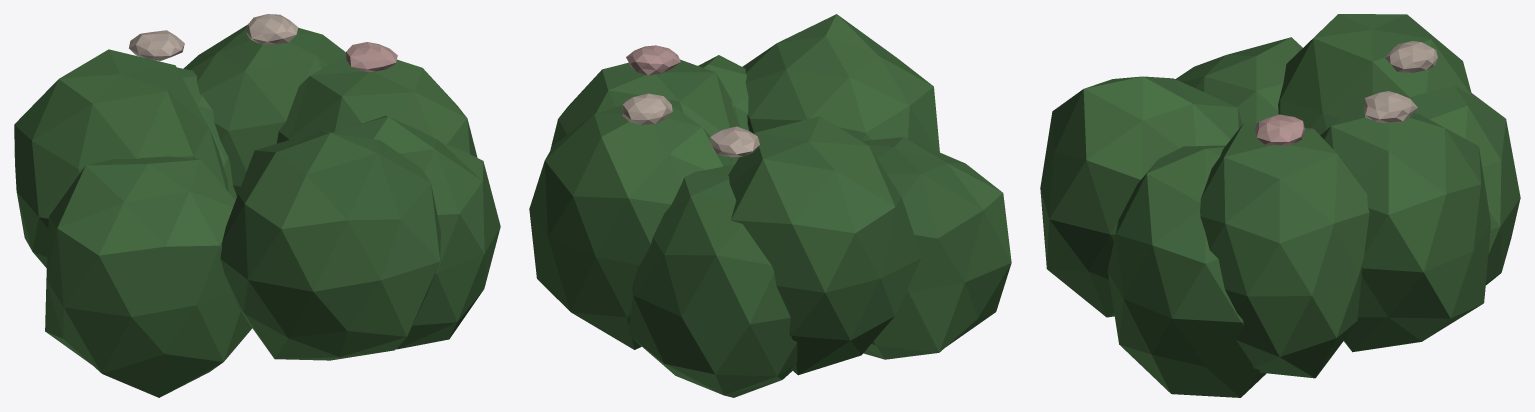
The model's file is coast-shrub-1.glb.
3 views of the same model, side by side, from view 1: azimuth 30°, elevation 25°; view 2: azimuth 150°, elevation 25°; view 3: azimuth 270°, elevation 25° (orthographic). The views are drawn at different scales.
Parts seen in each view (by area): view 1: coast-shrub-1; view 2: coast-shrub-1; view 3: coast-shrub-1.
Part boxes in pixels (x1,y1,x2,y2): coast-shrub-1: (14,14,500,397); coast-shrub-1: (529,14,1011,397); coast-shrub-1: (1040,14,1520,397).
Bounding box in the file's own units: 1.02 × 0.6191 × 0.9789.
